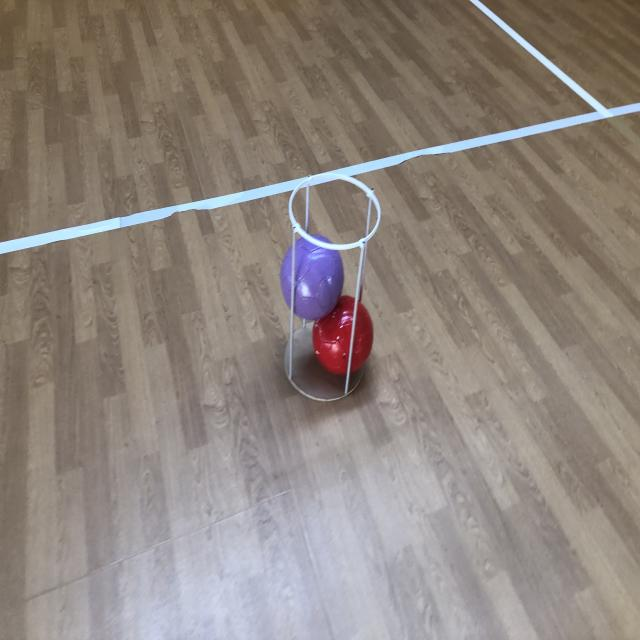purple_ball: (280, 233, 344, 320)
red_ball: (312, 297, 373, 375)
